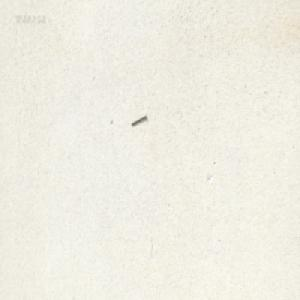Bolt: (130, 113, 146, 126)
